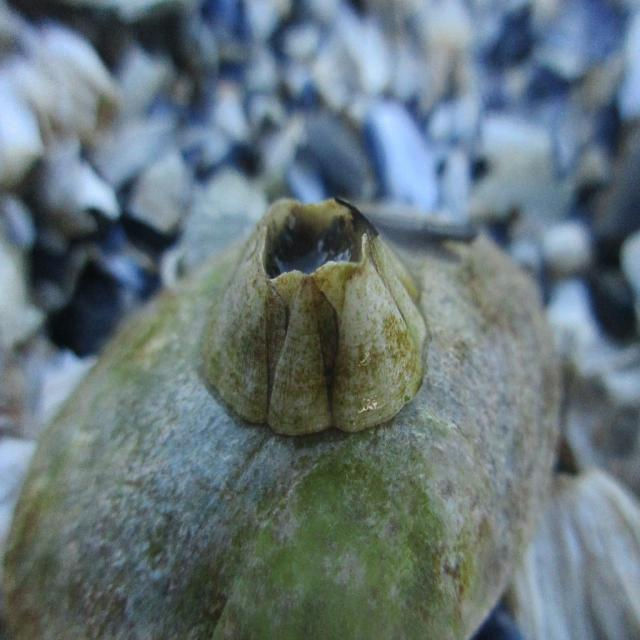barnacles: (195, 180, 434, 448)
